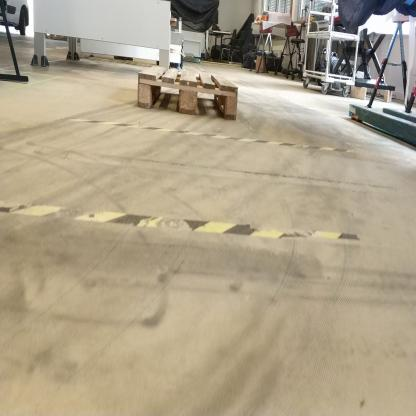BoxFace: (131, 63, 243, 122)
